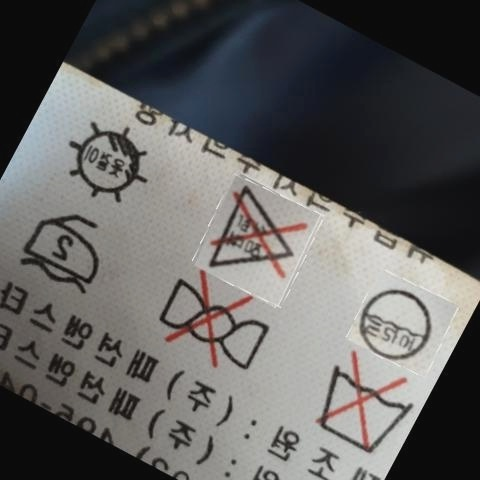DN_wash: (319, 352, 404, 453)
DN_wring: (156, 272, 269, 378)
dry_clean: (351, 275, 438, 363)
iron_medium: (19, 212, 105, 290)
line_dry_in_shade: (66, 119, 148, 206)
non_chlorine_bleach: (213, 186, 296, 283)
